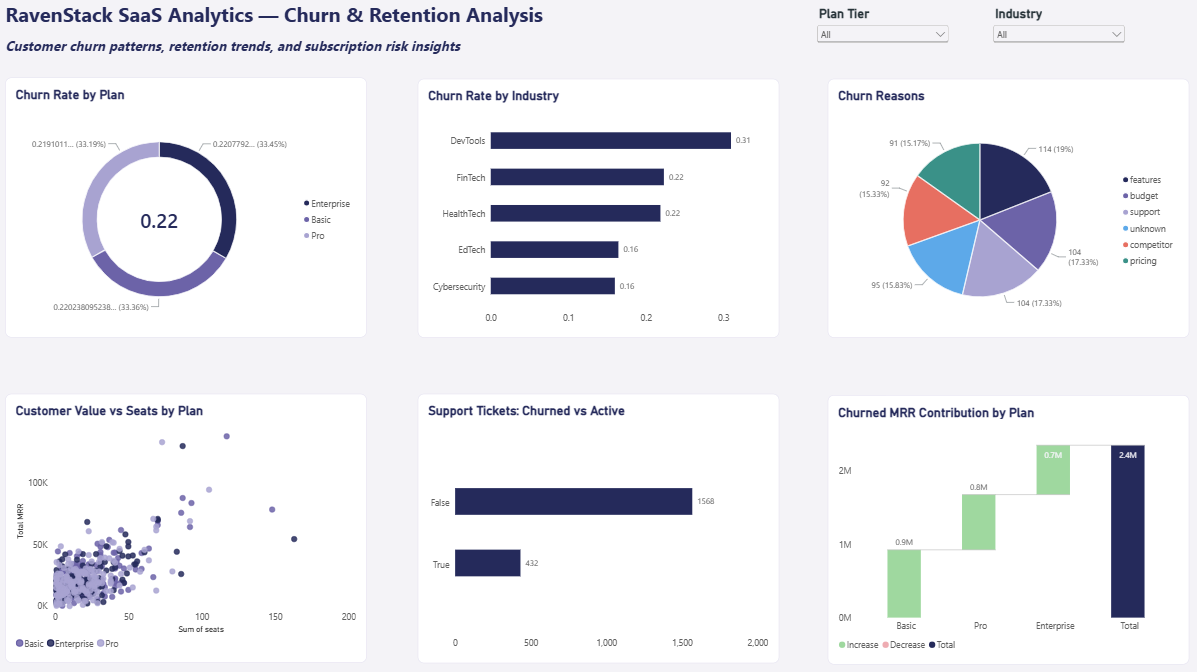

The page's visual inventory and layout, read from the dashboard file:
{"tool":"powerbi","page":{"name":"04 Churn & Retention Analysis","canvas":[1920,1080],"ordinal":3},"visuals":[{"type":"textbox","box":[10.8,0,873.9,57.7],"z":0},{"type":"textbox","box":[10.8,57.7,873.9,37.8],"z":1},{"type":"donutChart","title":"Churn Rate by Plan","fields":{"Category":["accounts.plan_tier"],"Y":["accounts.Customer Churn Rate"]},"box":[10.8,124.3,578.4,416.2],"z":2},{"type":"clusteredBarChart","title":"Churn Rate by Industry","fields":{"Category":["accounts.industry"],"Y":["accounts.Customer Churn Rate"]},"box":[670.3,126.1,578.4,414.4],"z":3},{"type":"pieChart","title":"Churn Reasons","fields":{"Category":["churn_events.reason_code"],"Y":["CountNonNull(churn_events.churn_event_id)"]},"box":[1326.1,126.1,578.4,414.4],"z":4},{"type":"scatterChart","title":"Customer Value vs Seats by Plan","fields":{"Category":["accounts.account_id"],"Series":["accounts.plan_tier"],"X":["Sum(accounts.seats)"],"Y":["accounts.Total MRR"]},"box":[10,630,578.4,430.6],"z":5},{"type":"barChart","title":"Support Tickets: Churned vs Active","fields":{"Category":["accounts.churn_flag"],"Y":["CountNonNull(support_tickets.ticket_id)"]},"box":[670,630,578,431],"z":6},{"type":"waterfallChart","title":"Churned MRR Contribution by Plan","fields":{"Category":["accounts.plan_tier"],"Y":["accounts.Churned MRR"]},"box":[1326,632,578,431],"z":7},{"type":"slicer","fields":{"Values":["accounts.plan_tier"]},"box":[1304,10,220,100],"z":8},{"type":"slicer","fields":{"Values":["accounts.industry"]},"box":[1586,10,220,100],"z":9}]}

Visuals, with their boxes in screenshot pixels (x1, y1, x2, y2), scaled from the page's 1920x1080 canvas onto the 1197x672 screenshot:
textbox: bbox=[7, 0, 552, 36]
textbox: bbox=[7, 36, 552, 59]
"Churn Rate by Plan" donutChart: bbox=[7, 77, 367, 336]
"Churn Rate by Industry" clusteredBarChart: bbox=[418, 78, 778, 336]
"Churn Reasons" pieChart: bbox=[827, 78, 1187, 336]
"Customer Value vs Seats by Plan" scatterChart: bbox=[6, 392, 367, 660]
"Support Tickets: Churned vs Active" barChart: bbox=[418, 392, 778, 660]
"Churned MRR Contribution by Plan" waterfallChart: bbox=[827, 393, 1187, 661]
slicer - accounts.plan_tier: bbox=[813, 6, 950, 68]
slicer - accounts.industry: bbox=[989, 6, 1126, 68]
